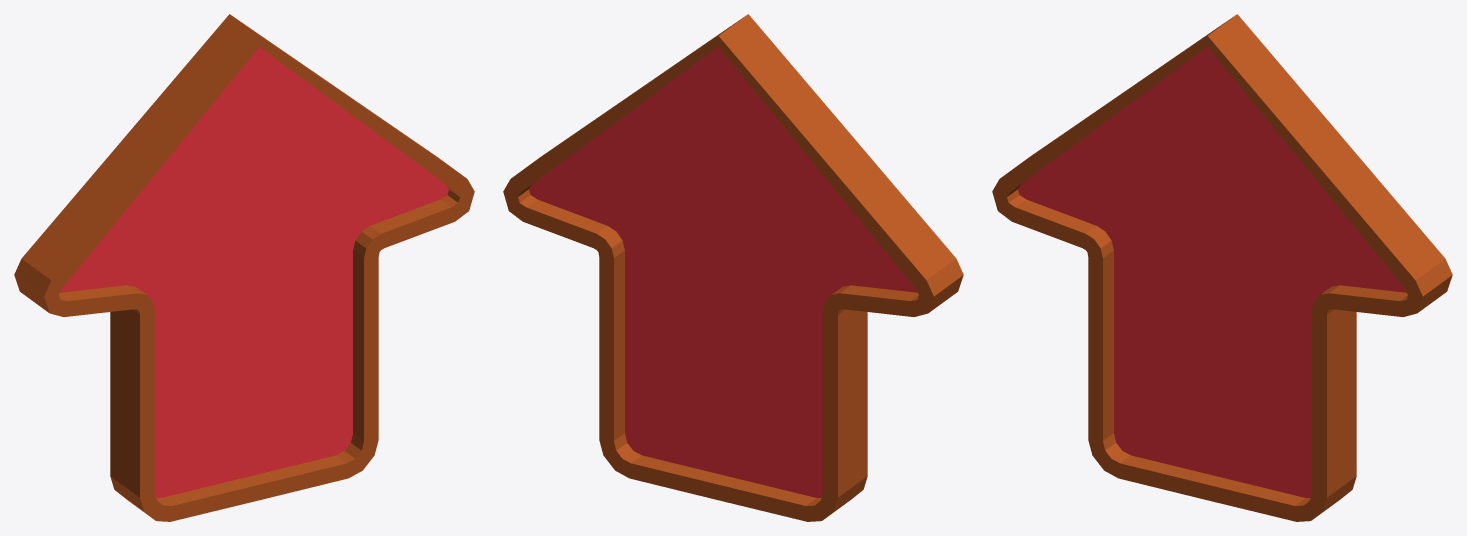
File: flecha 1.fbx
3 views of the same model, side by side, from view 1: azimuth 30°, elevation 25°; view 2: azimuth 150°, elevation 25°; view 3: azimuth 330°, elevation 25° (orthographic).
Parts seen in each view (by area): view 1: Cube; view 2: Cube; view 3: Cube.
Boxes of the visible parts, left/top/right/bottom form: Cube: left=14, top=14, right=474, bottom=521; Cube: left=503, top=14, right=963, bottom=521; Cube: left=992, top=14, right=1452, bottom=521.
Size of the model in its own units: 20.52 by 21.14 by 2.46.
